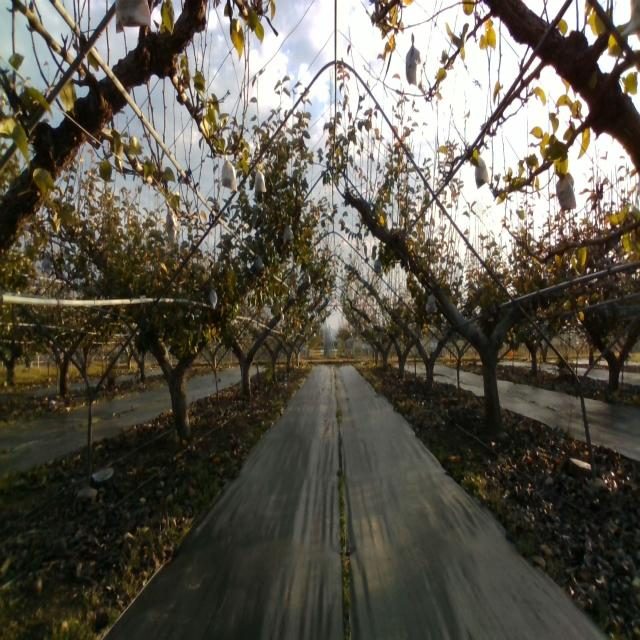pearbags: (405, 32, 421, 85), (556, 172, 576, 212), (165, 200, 178, 248), (222, 154, 238, 192), (475, 158, 489, 188), (253, 166, 267, 192), (424, 290, 436, 313), (208, 284, 218, 310), (283, 224, 295, 244)
